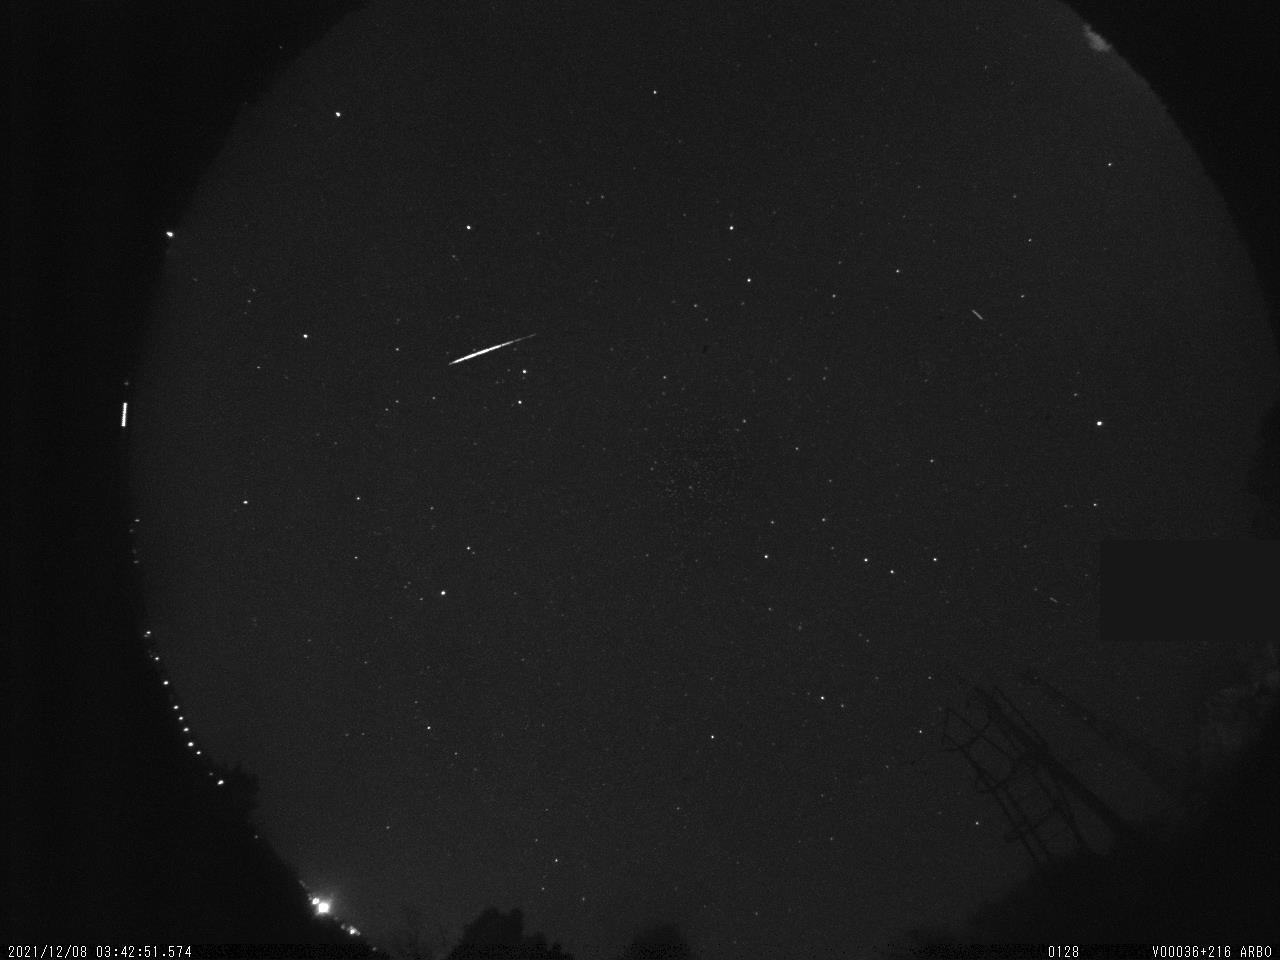meteor: (425, 307, 556, 389)
